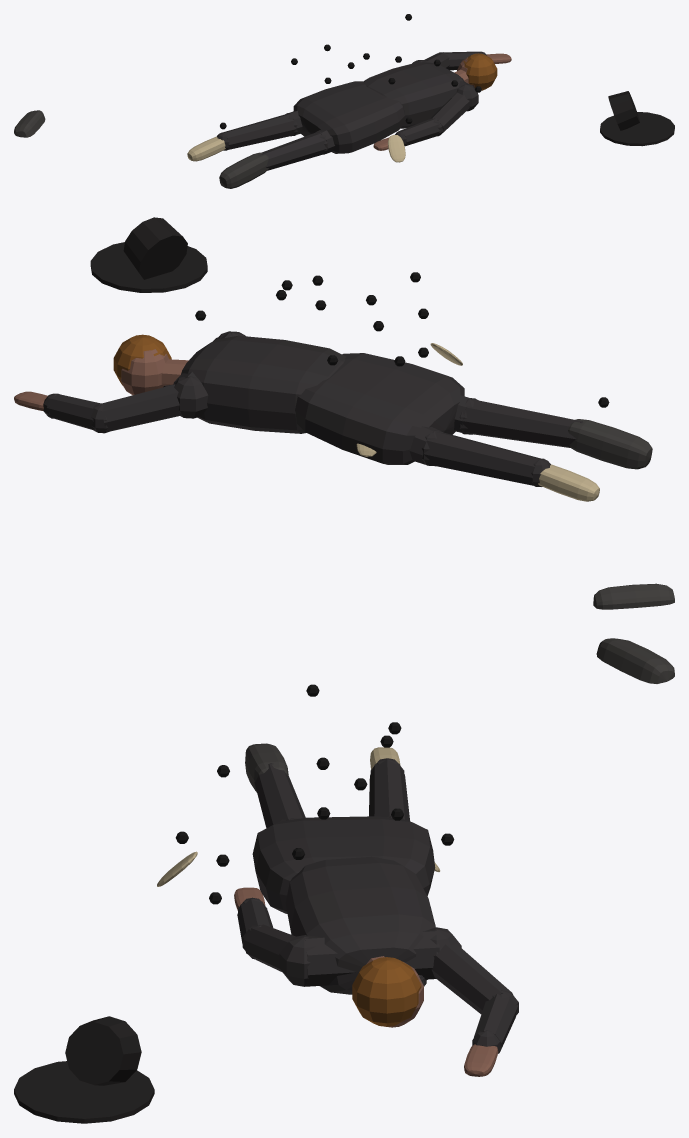
Rendered from sidewalk.glb.
3 views of the same model, one above another, from view 1: azimuth 30°, elevation 25°; view 2: azimuth 150°, elevation 25°; view 3: azimuth 270°, elevation 25° (orthographic). The views are drawn at different scales.
Visible parts, largest first — view 1: sidewalk; view 2: sidewalk; view 3: sidewalk.
Boxes of the visible parts, x1,y1,x2,y2 form: sidewalk: [14, 14, 674, 188]; sidewalk: [14, 217, 674, 609]; sidewalk: [14, 638, 674, 1123].
Size of the model in its own units: 3.12 by 0.5026 by 1.88.
